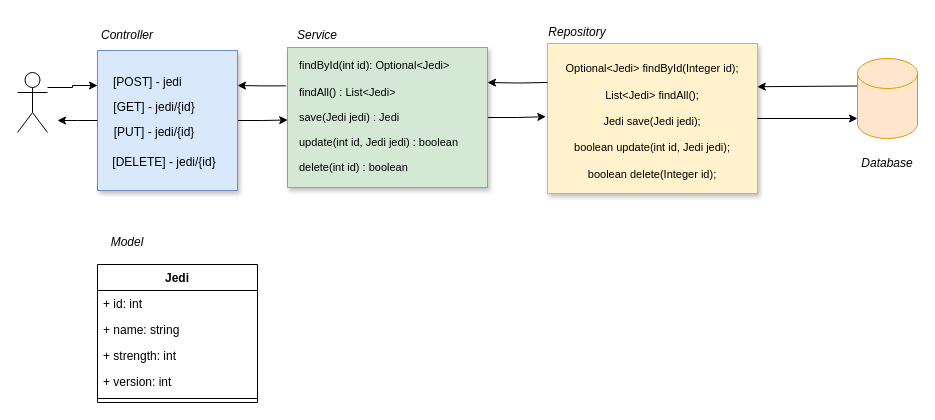
Some shapes in this 935 by 420 pixel diagram are drawn without their labels. Each missing label, with the centre of its shape:
"client" goes at pixel 32 102.
"H2" goes at pixel 887 98.
